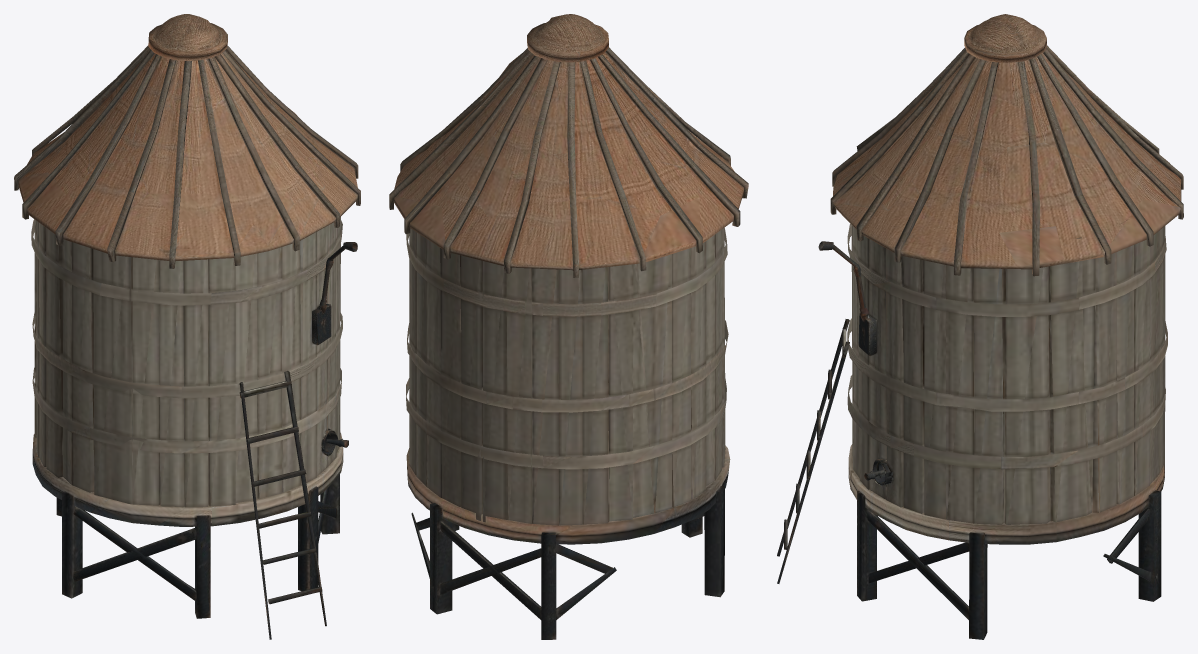
The model's file is water_tank.glb.
The picture shows the model from 3 angles, left to right: view 1: azimuth 30°, elevation 25°; view 2: azimuth 150°, elevation 25°; view 3: azimuth 270°, elevation 25°; orthographic projection. The views are drawn at different scales.
Size of the model in its own units: 2.89 by 5 by 3.33.
Materials: 1 (1 with a texture image).
